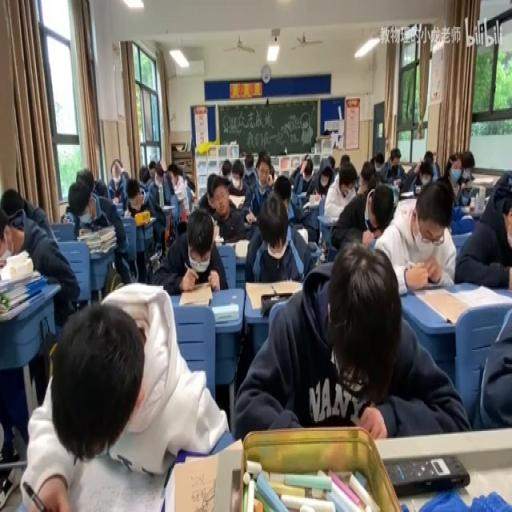calculator: (70, 450, 166, 510), (170, 453, 220, 512), (245, 280, 302, 309), (451, 283, 508, 310), (178, 283, 212, 304), (212, 300, 238, 322), (234, 238, 250, 258), (228, 193, 246, 209), (302, 193, 320, 209), (294, 225, 308, 243), (149, 250, 159, 272), (134, 215, 154, 226), (470, 175, 496, 183), (307, 239, 322, 252), (212, 222, 220, 243), (112, 200, 124, 214), (458, 203, 473, 212), (400, 164, 413, 174), (398, 191, 414, 199), (462, 181, 477, 189), (296, 190, 307, 198), (122, 210, 132, 218), (162, 204, 174, 210)
paper: (233, 239, 460, 439), (0, 192, 77, 457), (374, 175, 458, 291), (453, 170, 512, 288), (152, 205, 226, 294), (245, 192, 315, 286), (72, 174, 131, 283), (473, 294, 512, 429), (330, 172, 388, 253), (125, 174, 163, 258), (300, 156, 334, 238), (440, 152, 474, 206), (162, 161, 190, 222), (0, 199, 24, 266), (246, 154, 271, 218), (403, 154, 435, 196), (197, 169, 224, 212), (378, 148, 404, 189), (107, 160, 129, 204), (272, 172, 291, 206), (356, 161, 374, 195), (339, 164, 357, 194), (76, 168, 94, 195), (289, 162, 304, 189), (91, 178, 107, 198), (220, 158, 232, 182), (430, 159, 440, 179), (139, 166, 149, 185), (184, 172, 194, 191), (464, 159, 474, 178), (244, 154, 254, 172), (422, 150, 434, 164), (61, 208, 73, 222), (232, 171, 242, 186), (154, 164, 164, 179), (340, 154, 350, 168), (148, 158, 156, 175), (269, 165, 275, 183), (328, 155, 335, 169), (302, 162, 310, 174), (370, 154, 378, 164)
person: (386, 452, 470, 495), (230, 468, 242, 510)
